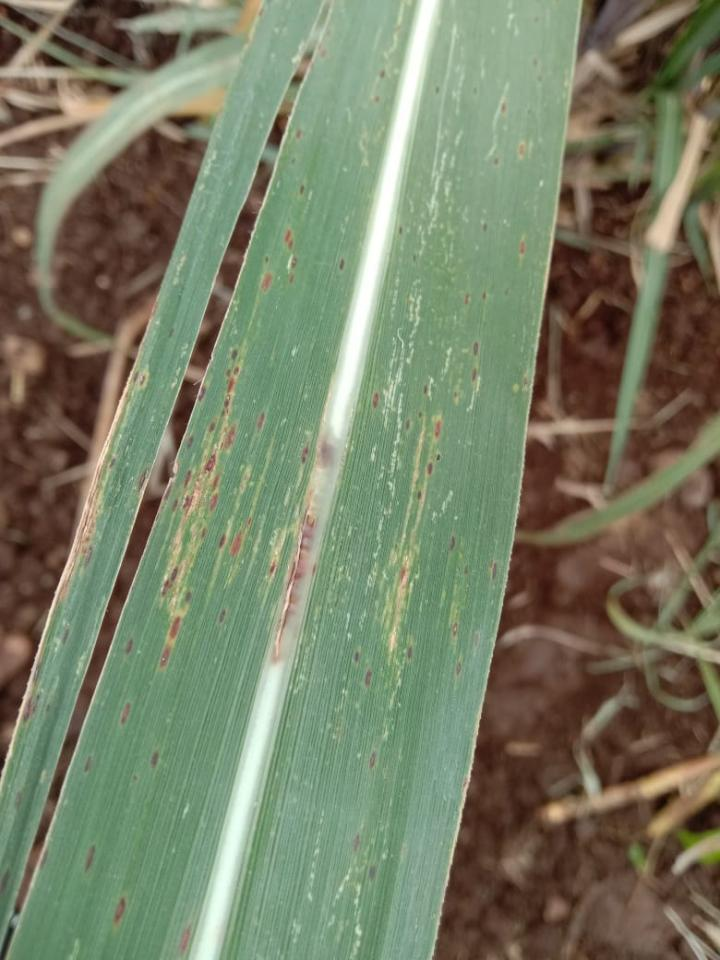RedRot: (273, 485, 317, 664), (316, 437, 334, 477)
Rust: (158, 420, 237, 671), (56, 456, 117, 604), (21, 642, 45, 724), (229, 514, 254, 557), (220, 368, 236, 418), (113, 897, 129, 928), (176, 925, 192, 955), (131, 369, 148, 390), (286, 255, 298, 284), (84, 845, 96, 873), (120, 699, 132, 725), (239, 468, 251, 493), (260, 272, 275, 291), (38, 847, 50, 870), (399, 564, 408, 593), (0, 869, 10, 894), (205, 416, 218, 434), (217, 532, 230, 550), (301, 441, 310, 466), (60, 628, 71, 647), (82, 755, 93, 773), (137, 471, 146, 493), (14, 790, 24, 809), (257, 412, 266, 432), (197, 384, 207, 402), (217, 607, 227, 625), (285, 229, 293, 251), (151, 749, 159, 770), (269, 557, 277, 577), (369, 752, 377, 771), (364, 669, 372, 688), (126, 638, 134, 656), (491, 562, 498, 582), (372, 393, 380, 410), (450, 535, 457, 554), (434, 421, 441, 439), (230, 348, 239, 362), (369, 865, 376, 881), (354, 835, 360, 853), (452, 621, 458, 639), (473, 341, 479, 358), (473, 633, 479, 648), (233, 365, 241, 376), (408, 645, 413, 662), (456, 660, 461, 677), (354, 650, 360, 664), (427, 463, 434, 475), (518, 143, 524, 157), (472, 367, 477, 383), (519, 240, 524, 256), (320, 48, 327, 59), (404, 418, 410, 430), (296, 129, 302, 141), (338, 259, 344, 271), (169, 327, 175, 339), (493, 156, 499, 167), (327, 24, 332, 37), (373, 95, 380, 104), (500, 102, 506, 112), (300, 184, 305, 196), (523, 376, 528, 387), (464, 295, 469, 306), (417, 490, 422, 500), (423, 384, 428, 394), (264, 255, 269, 265), (453, 390, 458, 399), (380, 70, 385, 79), (46, 704, 51, 713), (483, 220, 487, 231), (132, 774, 138, 781), (399, 226, 403, 236), (464, 566, 468, 575), (482, 291, 486, 300), (534, 58, 538, 67), (291, 157, 296, 164), (418, 412, 422, 418), (414, 253, 416, 263), (318, 45, 321, 50)
